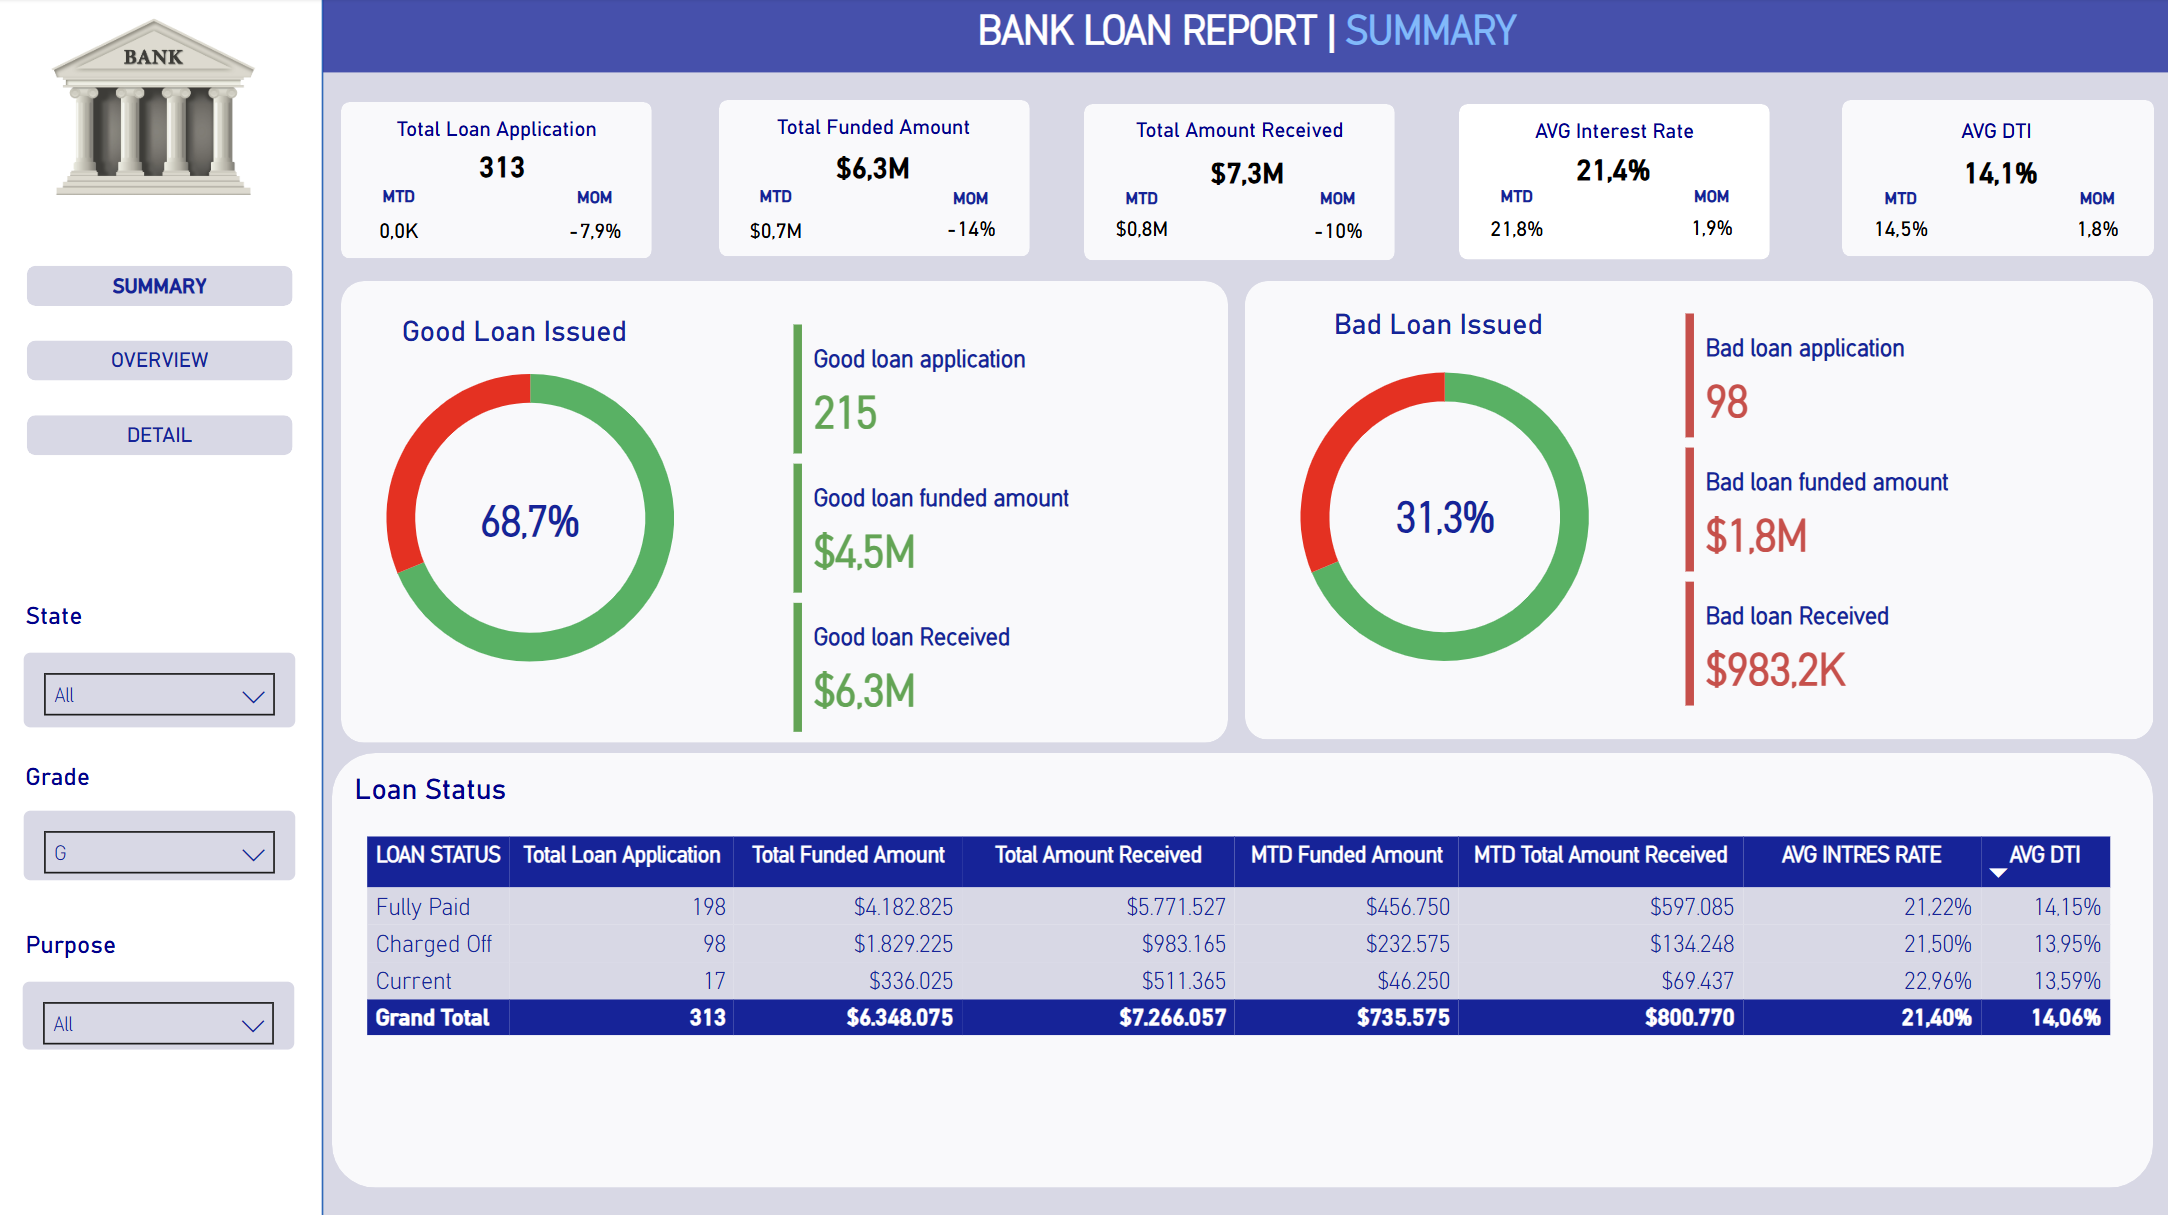

Layout of this report page (visuals, bound fields, positions):
{"tool":"powerbi","page":{"name":"SUMMARY","canvas":[1280,720],"ordinal":0},"visuals":[{"type":"shape","box":[196.7,445.1,1073,256.2],"z":0},{"type":"shape","box":[202.4,167,522.6,272.1],"z":1000},{"type":"donutChart","fields":{"Category":["financial_loan.Good VS Bad Loan"],"Y":["financial_loan.total loan application"]},"box":[202.6,194.6,221.8,223.7],"z":2000},{"type":"shape","box":[0,0,191.7,720],"z":3000},{"type":"card","title":"Total Loan Application","fields":{"Values":["financial_loan.Good loan %"]},"box":[254,276.4,119,60.7],"z":4000},{"type":"shape","box":[191.7,0,1088.9,43.8],"z":5000},{"type":"textbox","box":[192,0,1088,44],"z":6000},{"type":"textbox","box":[196.5,180.8,216.1,34.4],"z":7000},{"type":"shape","box":[734.9,166.9,535.3,270.3],"z":8000},{"type":"cardVisual","fields":{"Data":["financial_loan.good loan application","financial_loan.good loan funded amount","financial_loan.Good loan total Received"]},"box":[463.5,187.1,251.6,250.3],"z":9000},{"type":"donutChart","fields":{"Category":["financial_loan.Good VS Bad Loan"],"Y":["financial_loan.total loan application"]},"box":[735.5,194.6,234.2,222.4],"z":10000},{"type":"textbox","box":[740.8,177,216,34.7],"z":11000},{"type":"card","title":"Total Loan Application","fields":{"Values":["financial_loan.Bad loan %"]},"box":[790,276.4,125.2,56.4],"z":12000},{"type":"cardVisual","fields":{"Data":["financial_loan.Bad loan application","financial_loan.Bad loan funded amount","financial_loan.Bad loan Received"]},"box":[989.2,180.8,252.5,243.6],"z":13000},{"type":"tableEx","fields":{"Values":["financial_loan.loan_status","financial_loan.total loan application","financial_loan.TOTAL FUNDED AMOUNT","financial_loan.TOTAL AMOUNT RECEVIED","financial_loan.MTD FUNDED AMOUNT","financial_loan.MTD Total AMOUNT RECIVED","financial_loan.AVG INTRES RATE","financial_loan.AVG DTI"]},"box":[205.3,490,1045.3,178.7],"z":14000},{"type":"textbox","box":[205.3,450.9,218.1,47.2],"z":15000},{"type":"slicer","fields":{"Values":["financial_loan.address_state"]},"box":[14,384.7,162,46],"z":16000},{"type":"textbox","box":[11.1,350.1,70.7,30.1],"z":17000},{"type":"slicer","fields":{"Values":["financial_loan.grade"]},"box":[14,478,162,43.3],"z":18000},{"type":"slicer","fields":{"Values":["financial_loan.purpose"]},"box":[13.7,578.5,162.3,41.9],"z":19000},{"type":"textbox","box":[11.1,445,70.7,29.4],"z":20000},{"type":"textbox","box":[11.1,543.8,77.9,29.4],"z":21000},{"type":"image","box":[23.4,6.9,136.2,113.6],"z":22000},{"type":"shape","box":[860.5,62.2,183.2,91.6],"z":23000},{"type":"shape","box":[202.2,61.5,183.2,92.3],"z":24000},{"type":"card","title":"Total Loan Application","fields":{"Values":["financial_loan.AVG INTRES RATE"]},"box":[912.2,87,79.2,24.9],"z":25000},{"type":"shape","box":[424.7,60.2,183.2,92.3],"z":26000},{"type":"shape","box":[640,62.2,183.2,92.3],"z":27000},{"type":"shape","box":[1086.3,60.2,183.9,92.3],"z":28000},{"type":"card","title":"Total Loan Application","fields":{"Values":["financial_loan.total loan application"]},"box":[254.6,85.7,85.1,29.4],"z":29000},{"type":"card","title":"Total Loan Application","fields":{"Values":["financial_loan.TOTAL FUNDED AMOUNT"]},"box":[474.4,86.4,82.5,28.8],"z":30000},{"type":"card","title":"Total Loan Application","fields":{"Values":["financial_loan.TOTAL AMOUNT RECEVIED"]},"box":[698.2,89,75.9,23.6],"z":31000},{"type":"card","title":"Total Loan Application","fields":{"Values":["financial_loan.AVG DTI"]},"box":[1144.5,89,70,29.4],"z":32000},{"type":"textbox","box":[860.5,63.5,183.2,28.1],"z":33000},{"type":"textbox","box":[202.2,62.2,183.2,26.8],"z":34000},{"type":"card","title":"MTD","fields":{"Values":["financial_loan.MTD Total INTREST RATE"]},"box":[860.7,111.3,68,41.3],"z":35000},{"type":"card","title":"MOM","fields":{"Values":["financial_loan.MOM TOTAL intrest rate"]},"box":[976,111.3,68,40.7],"z":36000},{"type":"card","title":"MTD","fields":{"Values":["financial_loan.MTD LOAN APPLICATION"]},"box":[202,111.3,68,33.3],"z":37000},{"type":"card","title":"MOM","fields":{"Values":["financial_loan.MOM LOAN APPLICATION"]},"box":[317.3,112,68,32.7],"z":38000},{"type":"textbox","box":[424,61.5,183.2,27.5],"z":39000},{"type":"textbox","box":[1087.6,63.5,182.6,27.5],"z":40000},{"type":"textbox","box":[640,62.8,183.2,28.1],"z":41000},{"type":"card","title":"MTD","fields":{"Values":["financial_loan.MTD DTI"]},"box":[1087.3,112.7,68,39.3],"z":42000},{"type":"card","title":"MTD","fields":{"Values":["financial_loan.MTD FUNDED AMOUNT"]},"box":[424,111.3,68,33.3],"z":43000},{"type":"card","title":"MTD","fields":{"Values":["financial_loan.MTD Total AMOUNT RECIVED"]},"box":[640,112.7,68,39.3],"z":44000},{"type":"card","title":"MOM","fields":{"Values":["financial_loan.MOM DTI"]},"box":[1202.7,112.7,68.7,39.3],"z":45000},{"type":"card","title":"MOM","fields":{"Values":["financial_loan.MOM TOTAL FUNDED"]},"box":[539.3,112.7,68,39.3],"z":46000},{"type":"card","title":"MOM","fields":{"Values":["financial_loan.MOM TOTAL amount Received"]},"box":[755.3,112.7,68,41.3],"z":47000},{"type":"pageNavigator","box":[12,152.7,167.3,124],"z":48000}]}

Visuals, with their boxes in screenshot pixels (x1, y1, x2, y2), scaled from the page's 1280x720 canvas onto the 2168x1215 screenshot:
shape: rect(333, 751, 2151, 1183)
shape: rect(343, 282, 1228, 741)
donutChart - financial_loan.Good VS Bad Loan x financial_loan.total loan application: rect(343, 328, 719, 706)
shape: rect(0, 0, 325, 1214)
"Total Loan Application" card: rect(430, 466, 632, 569)
shape: rect(325, 0, 2167, 74)
textbox: rect(325, 0, 2167, 74)
textbox: rect(333, 305, 699, 363)
shape: rect(1245, 282, 2151, 738)
cardVisual - financial_loan.good loan application x financial_loan.good loan funded amount: rect(785, 316, 1211, 738)
donutChart - financial_loan.Good VS Bad Loan x financial_loan.total loan application: rect(1246, 328, 1642, 704)
textbox: rect(1255, 299, 1621, 357)
"Total Loan Application" card: rect(1338, 466, 1550, 562)
cardVisual - financial_loan.Bad loan application x financial_loan.Bad loan funded amount: rect(1675, 305, 2103, 716)
tableEx - financial_loan.loan_status x financial_loan.total loan application: rect(348, 827, 2118, 1128)
textbox: rect(348, 761, 717, 841)
slicer - financial_loan.address_state: rect(24, 649, 298, 727)
textbox: rect(19, 591, 139, 642)
slicer - financial_loan.grade: rect(24, 807, 298, 880)
slicer - financial_loan.purpose: rect(23, 976, 298, 1047)
textbox: rect(19, 751, 139, 801)
textbox: rect(19, 918, 151, 967)
image: rect(40, 12, 270, 203)
shape: rect(1457, 105, 1768, 260)
shape: rect(342, 104, 653, 260)
"Total Loan Application" card: rect(1545, 147, 1679, 189)
shape: rect(719, 102, 1030, 257)
shape: rect(1084, 105, 1394, 261)
shape: rect(1840, 102, 2151, 257)
"Total Loan Application" card: rect(431, 145, 575, 194)
"Total Loan Application" card: rect(804, 146, 943, 194)
"Total Loan Application" card: rect(1183, 150, 1311, 190)
"Total Loan Application" card: rect(1938, 150, 2057, 200)
textbox: rect(1457, 107, 1768, 155)
textbox: rect(342, 105, 653, 150)
"MTD" card: rect(1458, 188, 1573, 258)
"MOM" card: rect(1653, 188, 1768, 256)
"MTD" card: rect(342, 188, 457, 244)
"MOM" card: rect(537, 189, 653, 244)
textbox: rect(718, 104, 1028, 150)
textbox: rect(1842, 107, 2151, 154)
textbox: rect(1084, 106, 1394, 153)
"MTD" card: rect(1842, 190, 1957, 256)
"MTD" card: rect(718, 188, 833, 244)
"MTD" card: rect(1084, 190, 1199, 256)
"MOM" card: rect(2037, 190, 2153, 256)
"MOM" card: rect(913, 190, 1029, 256)
"MOM" card: rect(1279, 190, 1394, 260)
pageNavigator: rect(20, 258, 304, 467)
